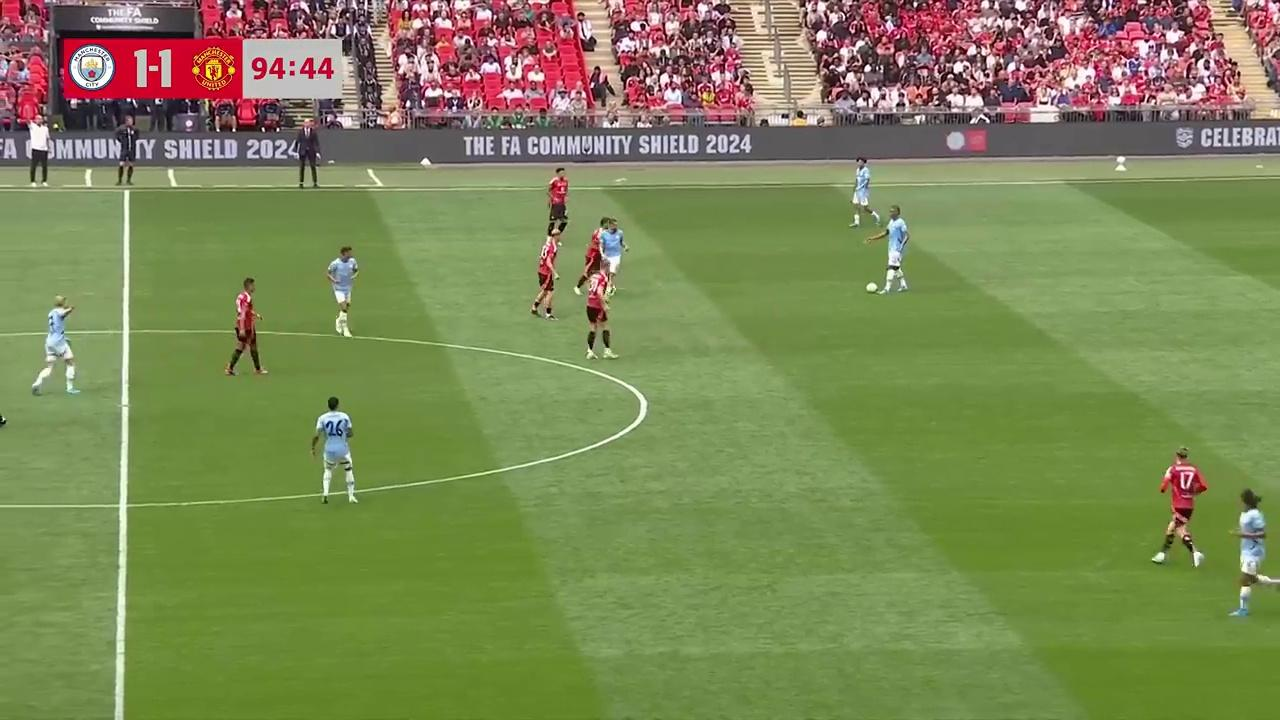ball: (864, 278, 878, 292)
player: (1153, 447, 1209, 569), (1228, 488, 1276, 618), (310, 396, 360, 505), (30, 295, 79, 396), (226, 277, 268, 377), (869, 204, 910, 294), (580, 259, 614, 359), (326, 245, 359, 337), (530, 229, 560, 319), (595, 216, 628, 286), (850, 157, 877, 228), (574, 232, 602, 294), (547, 167, 569, 239)
